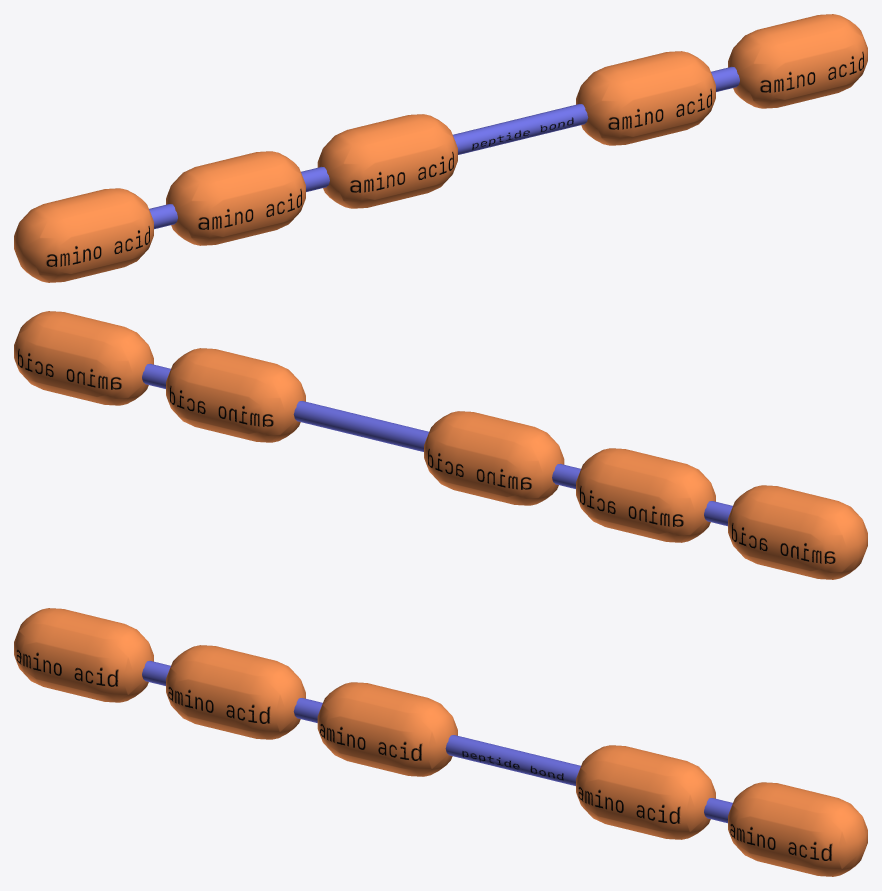
The model's file is chapter-1-section-3-primary-structure.glb.
The picture shows the model from 3 angles, top to bottom: view 1: azimuth 30°, elevation 25°; view 2: azimuth 150°, elevation 25°; view 3: azimuth 330°, elevation 25°; orthographic projection.
Visible parts, largest first — view 1: primary structure, primary structure.001; view 2: primary structure, primary structure.001; view 3: primary structure, primary structure.001.
Boxes of the visible parts, left/top/right/bottom form: primary structure: left=14, top=14, right=867, bottom=282; primary structure.001: left=149, top=66, right=739, bottom=229; primary structure: left=14, top=311, right=867, bottom=579; primary structure.001: left=142, top=363, right=732, bottom=526; primary structure: left=14, top=608, right=867, bottom=876; primary structure.001: left=142, top=660, right=732, bottom=823.
Size of the model in its own units: 13.87 by 1.13 by 1.13.
Materials: 3 (2 with a texture image).
